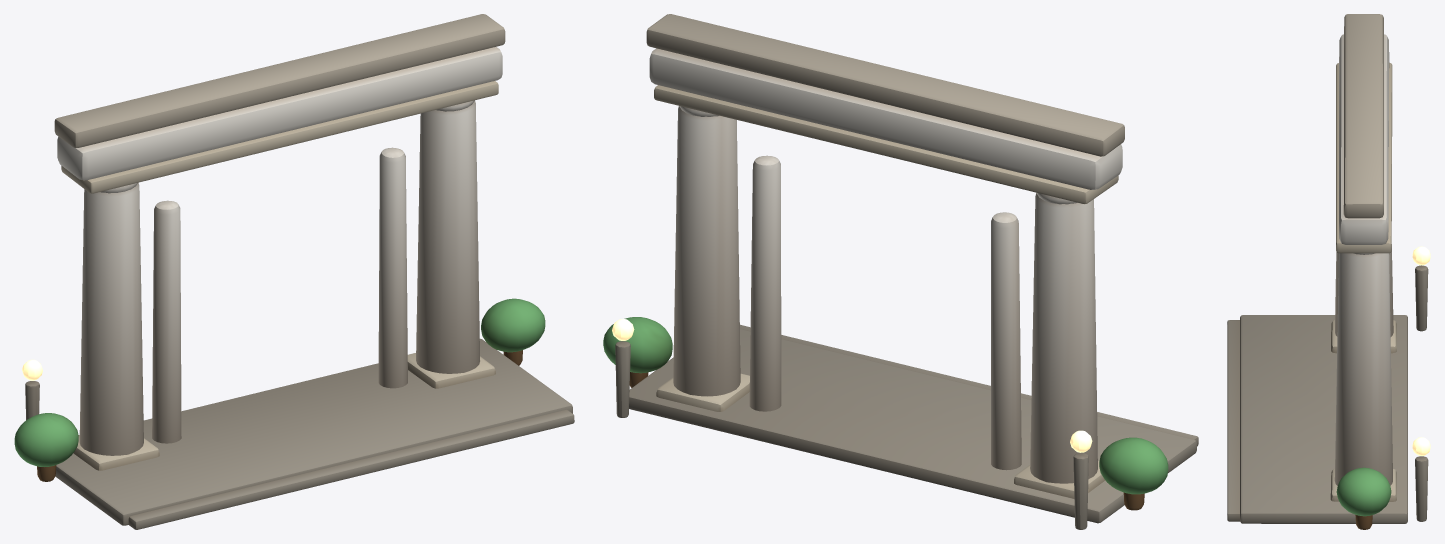
3 views of the same model, side by side, from view 1: azimuth 30°, elevation 25°; view 2: azimuth 150°, elevation 25°; view 3: azimuth 270°, elevation 25° (orthographic). The views are drawn at different scales.
Visible parts, largest first — view 1: gate_ce89b849; view 2: gate_ce89b849; view 3: gate_ce89b849.
Boxes of the visible parts, bbox=[...] form: gate_ce89b849: bbox=[14, 14, 574, 529]; gate_ce89b849: bbox=[603, 14, 1198, 529]; gate_ce89b849: bbox=[1227, 14, 1430, 529].
Bounding box in the file's own units: 6.86 × 4.38 × 2.54.
